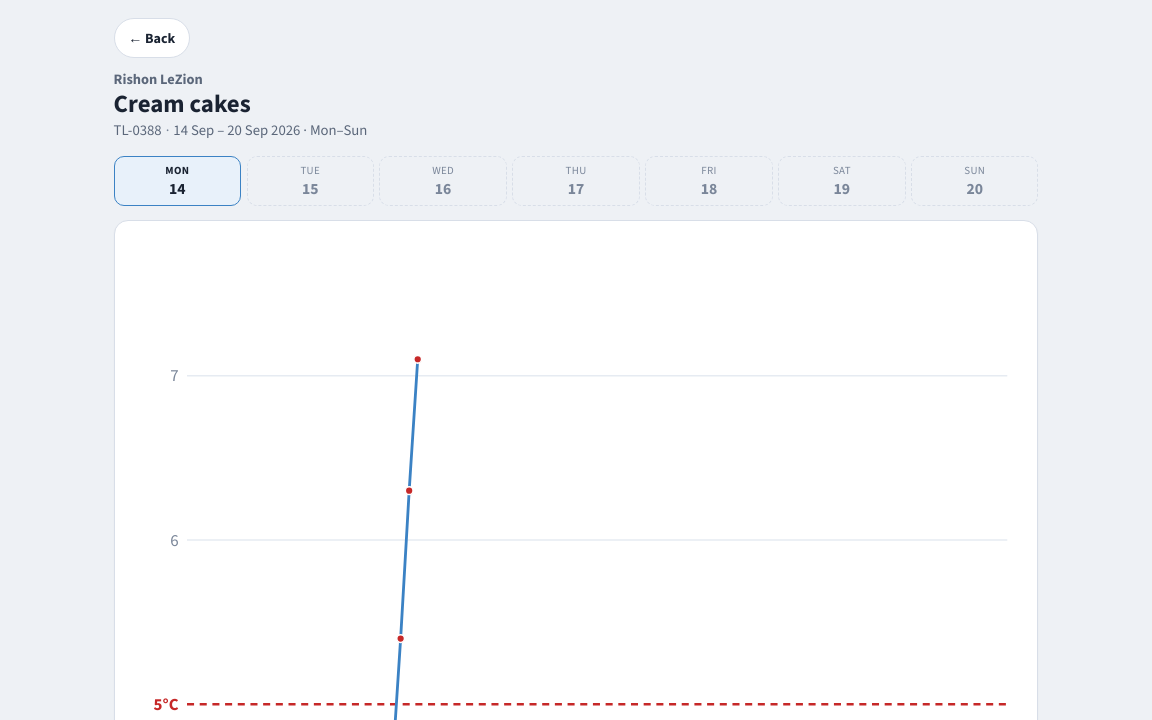
Test: FridgeDetails › switches days without refetching
Click the tab "Tue 15".
click(310, 181)  # box 246,156 -> 374,206
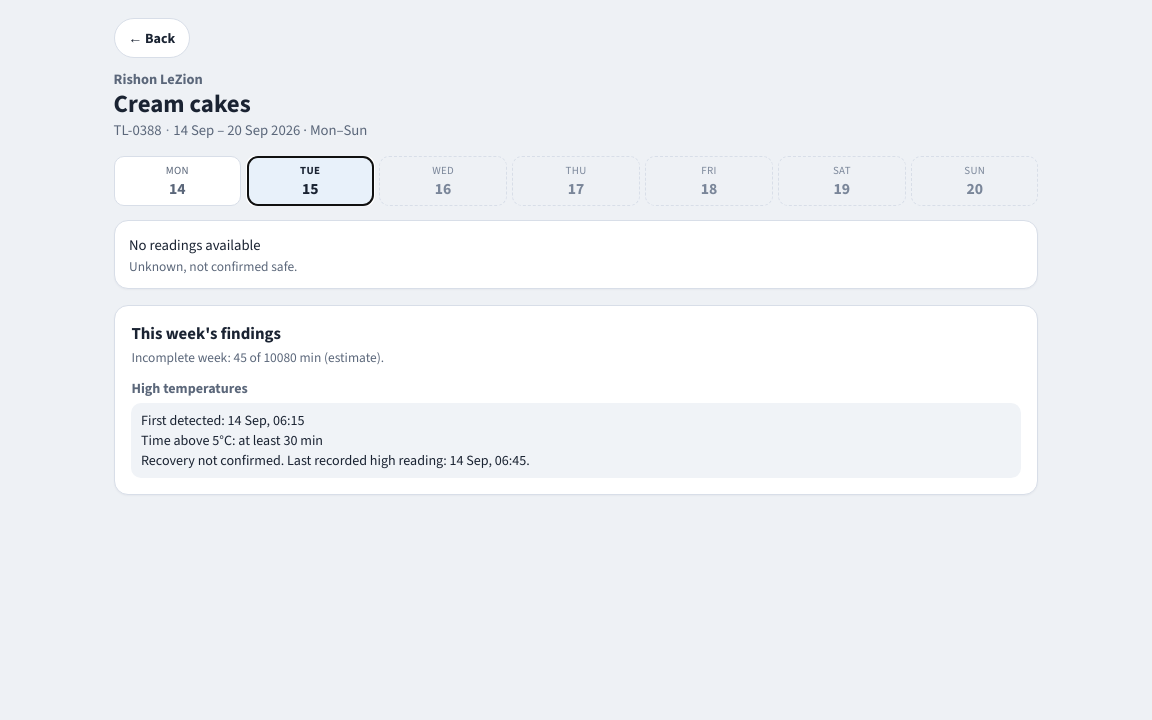
Expected: the heading "This week's findings" is shown, 131,322 -> 281,344
Expected: the text "No readings available" is shown, 129,235 -> 261,255
Expected: the text "Unknown, not confirmed safe." is shown, 129,258 -> 298,275
